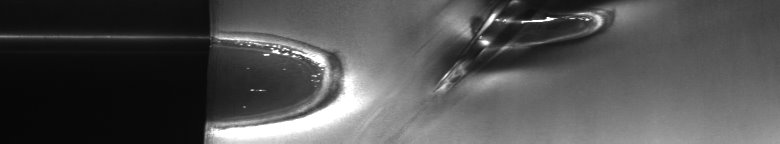ke: (437, 4, 610, 91)
